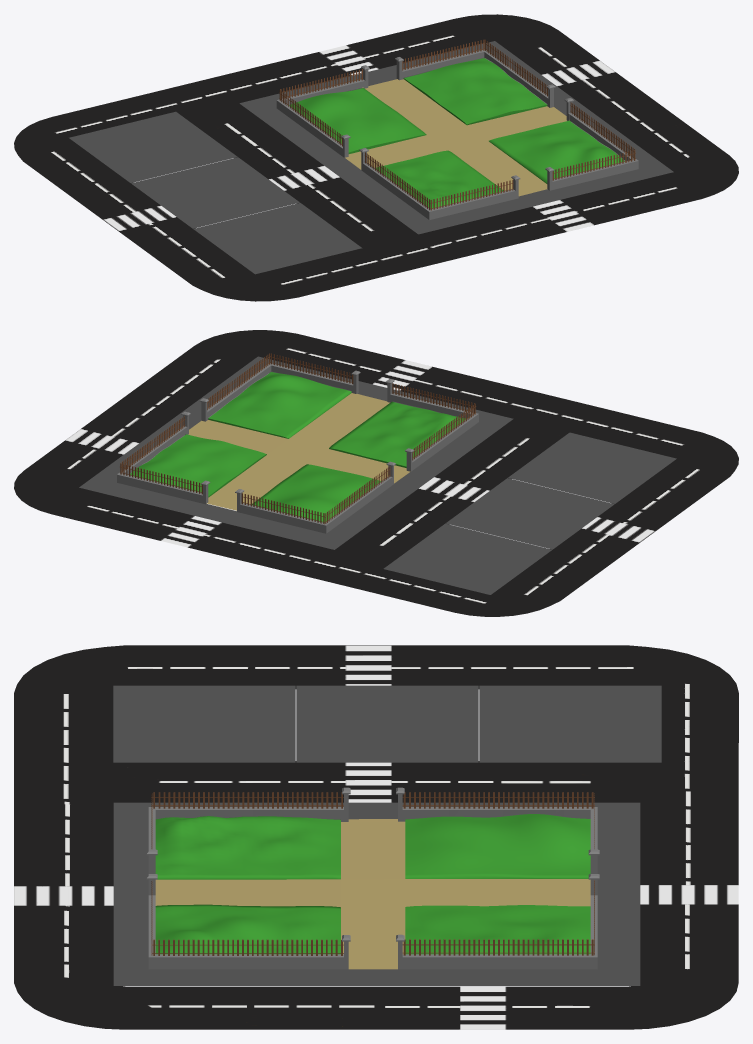
File: level (1).fbx
3 views of the same model, one above another, from view 1: azimuth 30°, elevation 25°; view 2: azimuth 150°, elevation 25°; view 3: azimuth 270°, elevation 25° (orthographic). The views are drawn at different scales.
Parts seen in each view (by area): view 1: yol, çimen, orta, yol.001, taş, zemin.002, zemin, zemin.001, çit.001, çit.006, çit.005, çit.004 (+4 smaller); view 2: yol, çimen, orta, yol.001, taş, zemin, zemin.002, zemin.001, çit.002, çit.004, çit.003, çit.001 (+4 smaller); view 3: yol, çimen, orta, yol.001, zemin, zemin.001, zemin.002, taş, çit.005, çit.001, çit.002, çit.006.
Part boxes in pixels (box(x1,y1,x2,y2)): yol: box(14, 14, 738, 301); çimen: box(289, 58, 624, 208); orta: box(239, 41, 673, 234); yol.001: box(345, 79, 569, 196); taş: box(276, 49, 638, 219); zemin.002: box(69, 111, 237, 182); zemin: box(193, 203, 362, 274); zemin.001: box(131, 157, 299, 228); çit.001: box(365, 152, 430, 210); çit.006: box(570, 102, 635, 158); çit.005: box(484, 39, 548, 96); çit.004: box(402, 39, 484, 70); yol: box(14, 330, 738, 616); çimen: box(130, 372, 465, 521); orta: box(79, 356, 513, 549); yol.001: box(188, 393, 410, 510); taş: box(117, 363, 478, 533); zemin: box(508, 432, 676, 503); zemin.002: box(383, 523, 552, 594); zemin.001: box(445, 478, 614, 549); çit.002: box(325, 466, 390, 523); çit.004: box(120, 463, 202, 494); çit.003: box(241, 493, 324, 524); çit.001: box(412, 403, 476, 460); yol: box(14, 645, 738, 1029); çimen: box(155, 814, 590, 954); orta: box(113, 802, 640, 985); yol.001: box(155, 819, 590, 969); zemin: box(113, 685, 295, 762); zemin.001: box(296, 685, 478, 762); zemin.002: box(479, 685, 661, 762); taş: box(146, 787, 599, 969); çit.005: box(402, 939, 594, 955); çit.001: box(151, 792, 343, 808); çit.002: box(402, 792, 594, 808); çit.006: box(151, 939, 343, 955).
Size of the model in its own units: 5967 by 236 by 4754.
